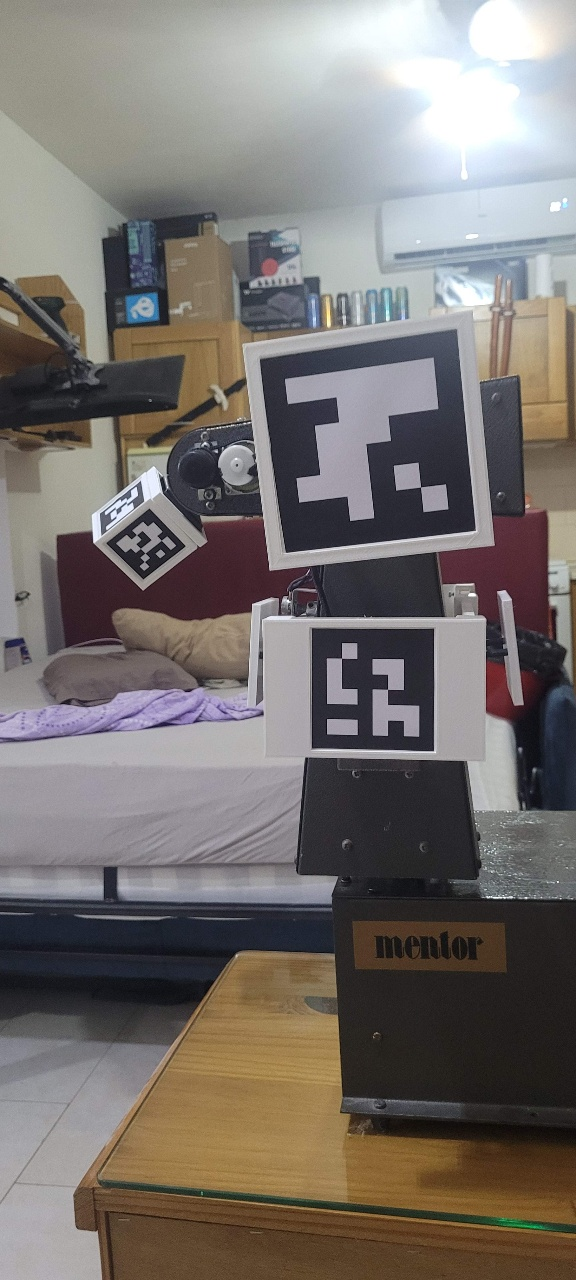Robot: (92, 180, 562, 991)
